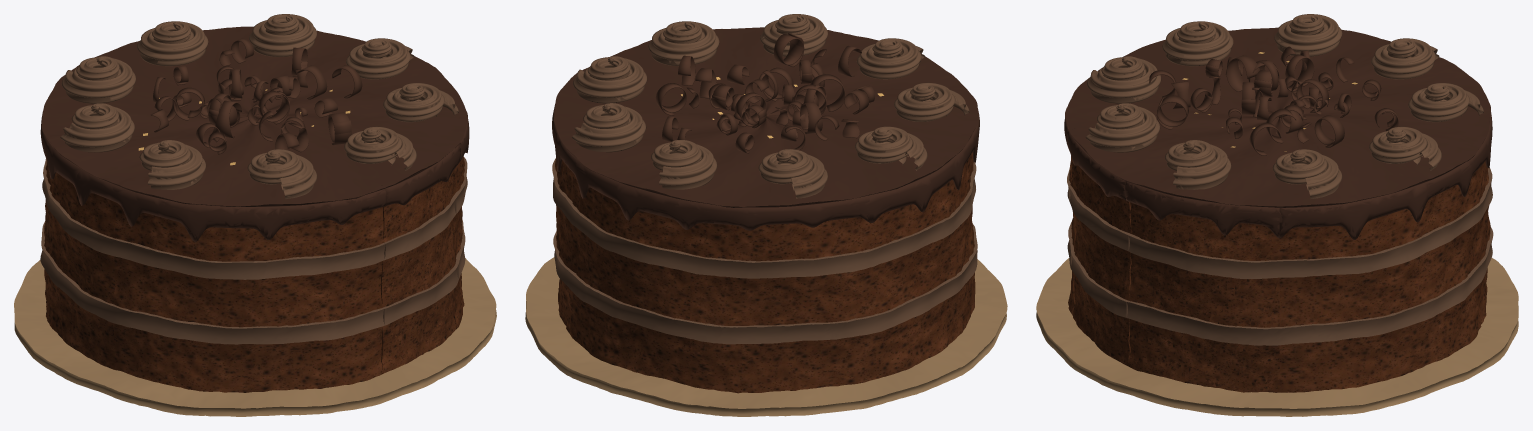
File: atelier-cake.glb
3 renders of one model, left to right at view 1: azimuth 30°, elevation 25°; view 2: azimuth 150°, elevation 25°; view 3: azimuth 270°, elevation 25°, orthographic.
Parts seen in each view (by area): view 1: CakeWhole_Moist dark chocolate crumb, CakeBody_Moist dark chocolate crumb, CakeWhole_Belgian ganache, CakeWhole_Whipped dark chocolate cream, CakeBody_Belgian ganache, CakeBody_Whipped dark chocolate cream, Champagne_board, CakeBody_Tempered chocolate ribbons, CakeSlice_Moist dark chocolate crumb, CakeSlice_Whipped dark chocolate cream, CakeSlice_Belgian ganache, CakeSlice_Tempered chocolate ribbons; view 2: CakeBody_Moist dark chocolate crumb, CakeWhole_Moist dark chocolate crumb, CakeWhole_Belgian ganache, CakeWhole_Whipped dark chocolate cream, CakeBody_Belgian ganache, CakeBody_Whipped dark chocolate cream, Champagne_board, CakeBody_Tempered chocolate ribbons, CakeSlice_Belgian ganache, CakeSlice_Whipped dark chocolate cream, CakeSlice_Tempered chocolate ribbons; view 3: CakeWhole_Moist dark chocolate crumb, CakeBody_Moist dark chocolate crumb, CakeWhole_Belgian ganache, CakeWhole_Whipped dark chocolate cream, CakeBody_Belgian ganache, CakeBody_Whipped dark chocolate cream, Champagne_board, CakeBody_Tempered chocolate ribbons, CakeSlice_Moist dark chocolate crumb, CakeSlice_Whipped dark chocolate cream, CakeSlice_Belgian ganache, CakeSlice_Tempered chocolate ribbons.
Boxes of the visible parts, left/top/right/bottom form: CakeWhole_Moist dark chocolate crumb: left=44, top=156, right=464, bottom=392; CakeBody_Moist dark chocolate crumb: left=44, top=157, right=464, bottom=392; CakeWhole_Belgian ganache: left=40, top=26, right=469, bottom=240; CakeWhole_Whipped dark chocolate cream: left=40, top=14, right=467, bottom=344; CakeBody_Belgian ganache: left=40, top=26, right=469, bottom=241; CakeBody_Whipped dark chocolate cream: left=41, top=14, right=467, bottom=344; Champagne_board: left=14, top=258, right=496, bottom=416; CakeBody_Tempered chocolate ribbons: left=150, top=38, right=362, bottom=154; CakeSlice_Moist dark chocolate crumb: left=381, top=172, right=455, bottom=373; CakeSlice_Whipped dark chocolate cream: left=344, top=126, right=458, bottom=325; CakeSlice_Belgian ganache: left=255, top=116, right=460, bottom=205; CakeSlice_Tempered chocolate ribbons: left=264, top=87, right=351, bottom=144; CakeBody_Moist dark chocolate crumb: left=555, top=154, right=974, bottom=392; CakeWhole_Moist dark chocolate crumb: left=555, top=152, right=975, bottom=393; CakeWhole_Belgian ganache: left=552, top=27, right=979, bottom=230; CakeWhole_Whipped dark chocolate cream: left=553, top=14, right=977, bottom=344; CakeBody_Belgian ganache: left=552, top=29, right=979, bottom=230; CakeBody_Whipped dark chocolate cream: left=552, top=21, right=977, bottom=344; Champagne_board: left=525, top=257, right=1007, bottom=416; CakeBody_Tempered chocolate ribbons: left=655, top=33, right=874, bottom=153; CakeSlice_Belgian ganache: left=714, top=27, right=843, bottom=114; CakeSlice_Whipped dark chocolate cream: left=760, top=14, right=827, bottom=56; CakeSlice_Tempered chocolate ribbons: left=757, top=33, right=804, bottom=101; CakeWhole_Moist dark chocolate crumb: left=1068, top=156, right=1490, bottom=392; CakeBody_Moist dark chocolate crumb: left=1068, top=162, right=1489, bottom=392; CakeWhole_Belgian ganache: left=1064, top=28, right=1492, bottom=239; CakeWhole_Whipped dark chocolate cream: left=1067, top=14, right=1493, bottom=345; CakeBody_Belgian ganache: left=1064, top=27, right=1492, bottom=239; CakeBody_Whipped dark chocolate cream: left=1067, top=14, right=1492, bottom=345; Champagne_board: left=1036, top=258, right=1518, bottom=416; CakeBody_Tempered chocolate ribbons: left=1149, top=46, right=1398, bottom=155; CakeSlice_Moist dark chocolate crumb: left=1070, top=157, right=1131, bottom=366; CakeSlice_Whipped dark chocolate cream: left=1068, top=103, right=1160, bottom=317; CakeSlice_Belgian ganache: left=1067, top=117, right=1266, bottom=200; CakeSlice_Tempered chocolate ribbons: left=1156, top=87, right=1260, bottom=129.
Size of the model in its own units: 3.74 by 2.03 by 3.72.
Materials: 6 (1 with a texture image).
